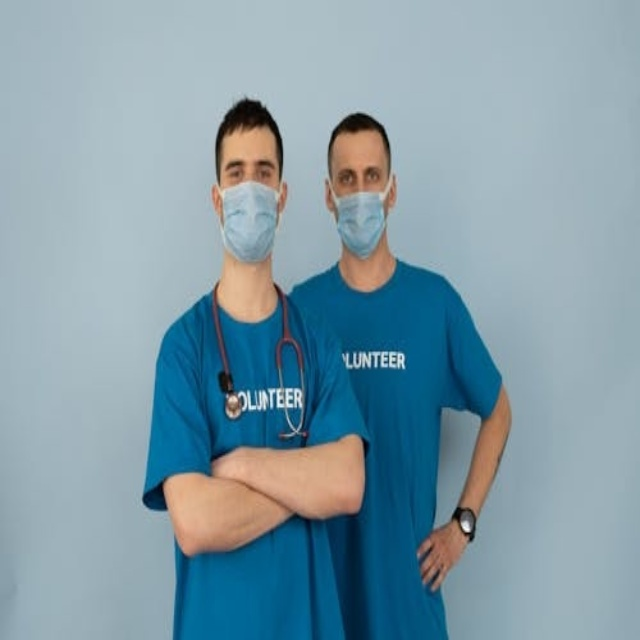Mascara: (218, 179, 280, 262), (330, 174, 390, 258)
Sin_gafas: (219, 148, 280, 188), (332, 160, 389, 192)
Sin_guantes: (417, 517, 469, 592)
